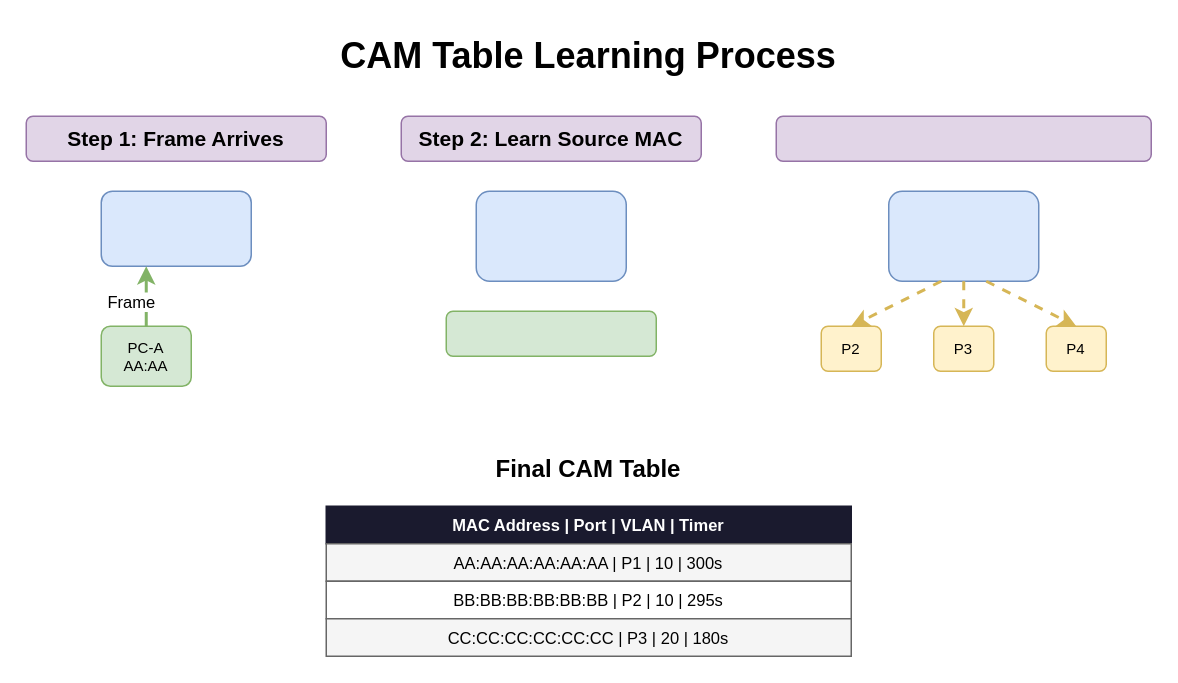
This 1178x683 diagram has some shape labels left out. Here are the shapes that lost their labels. From the top down, the centre of each, then its label:
At point 963,138: "Step 3: Destination Unknown = Flood".
At point 175,228: "Switch CAM: Empty".
At point 550,235: "Switch CAM: AA:AA -> P1".
At point 963,235: "Switch Dest BB:BB NOT FOUND".
At point 550,333: "Source MAC learned!".
